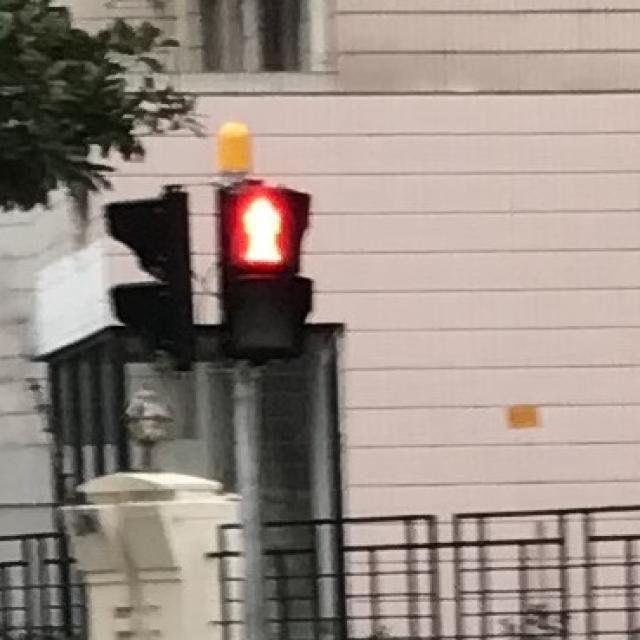red-crossing: (220, 184, 302, 269)
